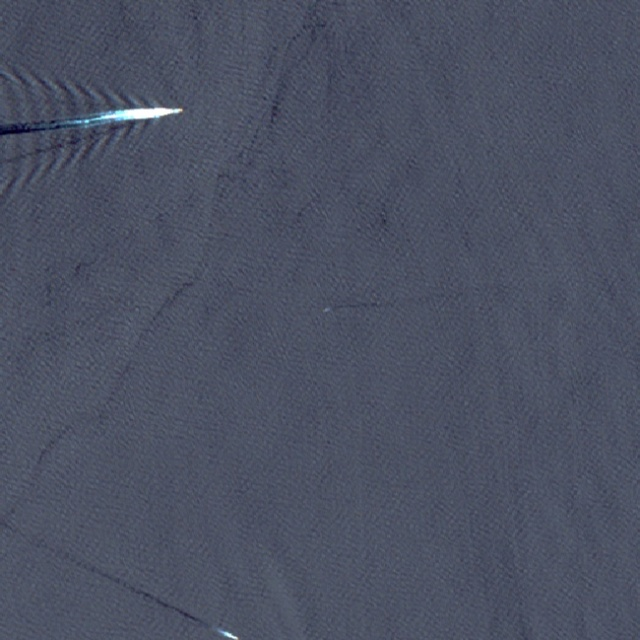wake: (21, 61, 191, 178)
